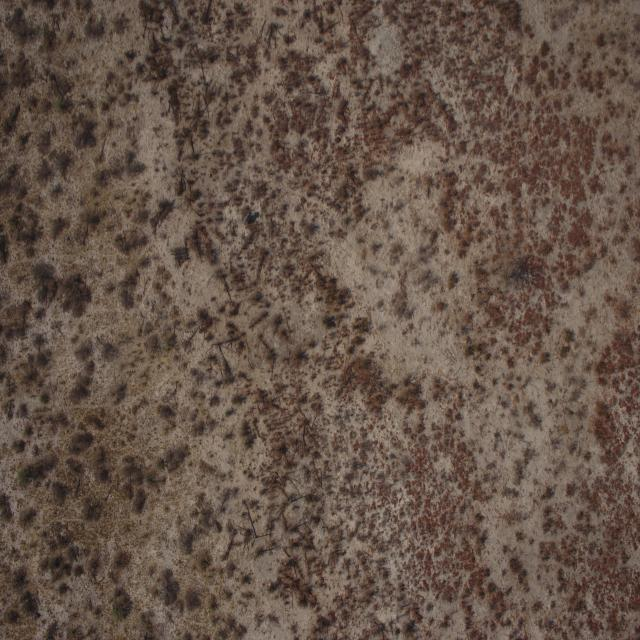elephant: (244, 209, 252, 225)
